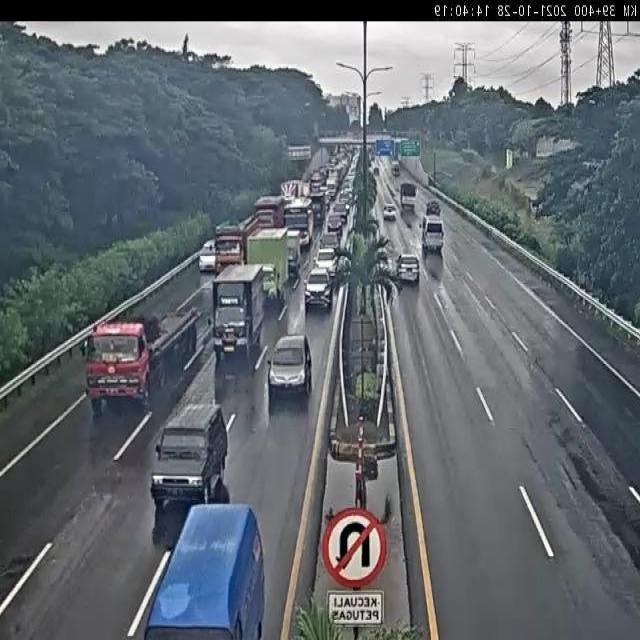Bus: (283, 198, 313, 250)
Car: (82, 302, 204, 412), (149, 404, 231, 504), (263, 333, 319, 404), (304, 267, 332, 317), (393, 252, 424, 284), (313, 247, 338, 278), (256, 198, 282, 227), (197, 241, 215, 270), (319, 229, 340, 251), (381, 204, 397, 222), (333, 204, 349, 221), (326, 215, 341, 232)
Truck: (206, 263, 268, 361), (248, 228, 288, 299), (212, 228, 251, 272), (399, 181, 418, 211)
Van: (142, 500, 280, 640), (418, 213, 446, 256)
